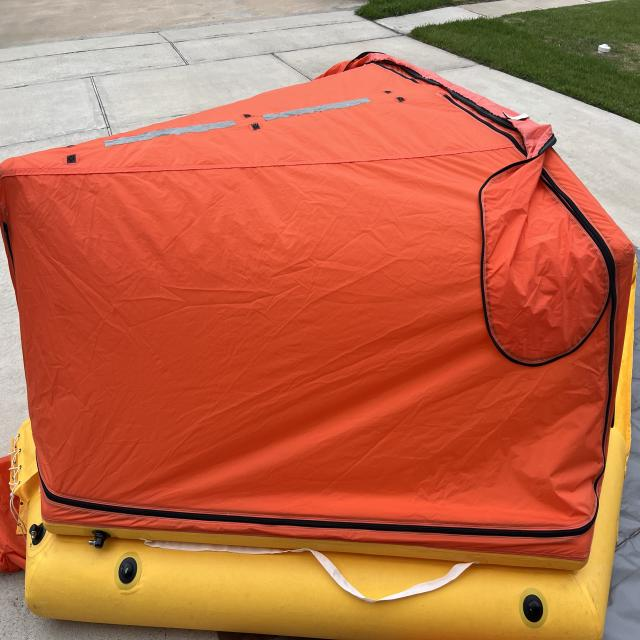Multi-person_life_raft: (0, 50, 640, 639)
